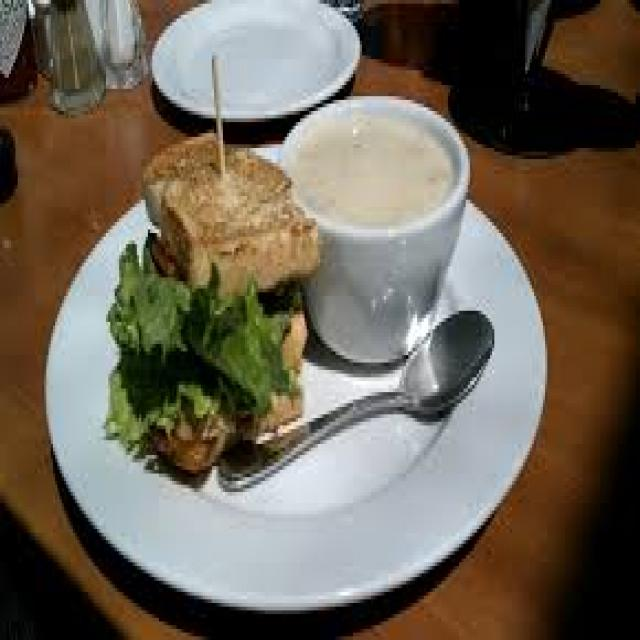Sandwich: (104, 92, 320, 474)
